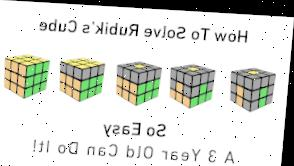cube: (229, 63, 279, 109), (3, 53, 50, 100), (59, 56, 106, 102), (115, 60, 163, 105), (169, 60, 217, 105)
